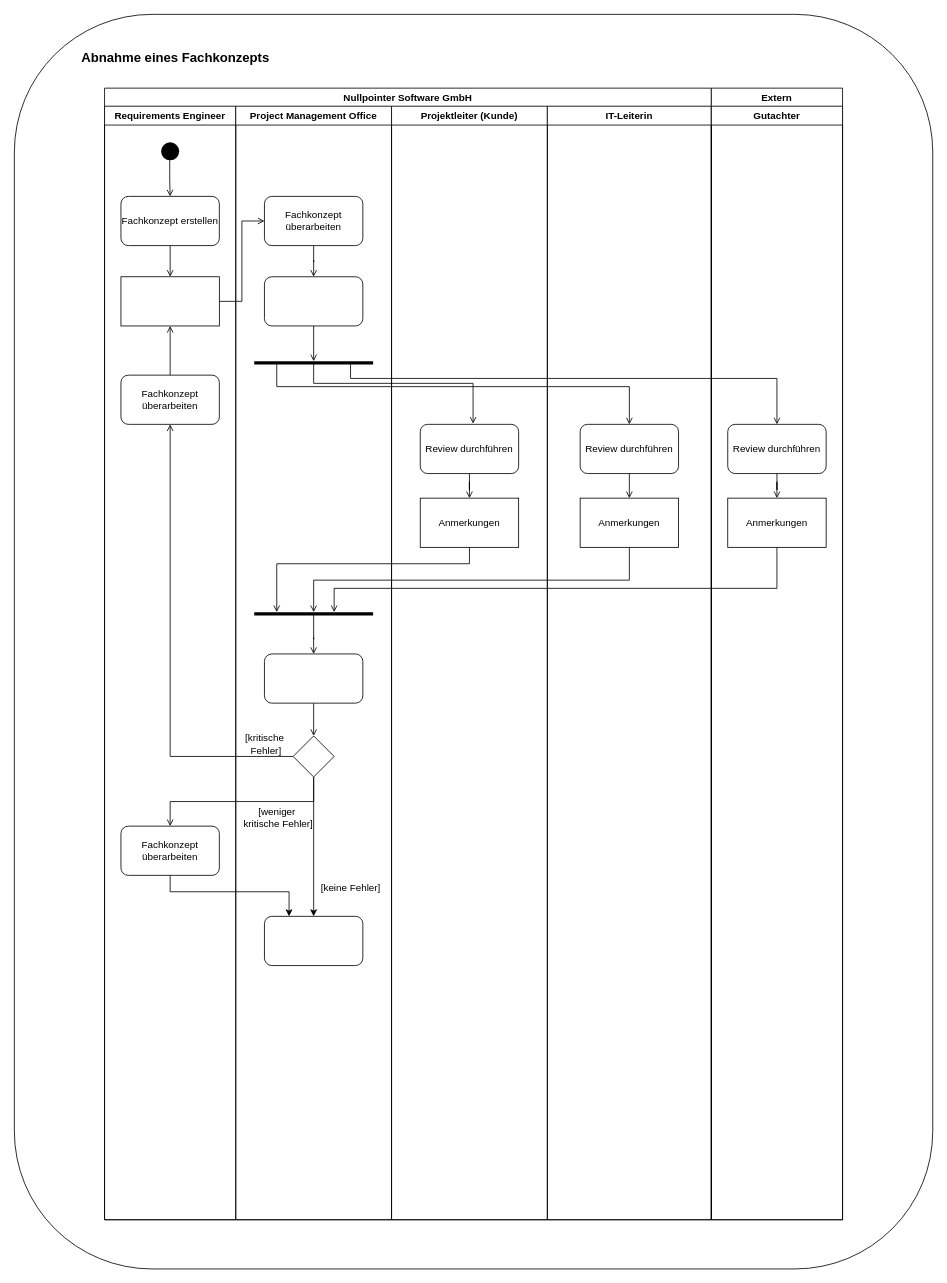
The diagram is 947 pixels wide and 1283 high, and some of its shapes have lost their labels. The centre of each missing label's shape, as x and y in pixels:
"Abnahme vorbereiten" belongs at (313,941).
"Fachkonzept" belongs at (169,301).
"Gesamtbewertung generieren" belongs at (313,678).
"Stakeholder benachrichtigen" belongs at (313,301).
